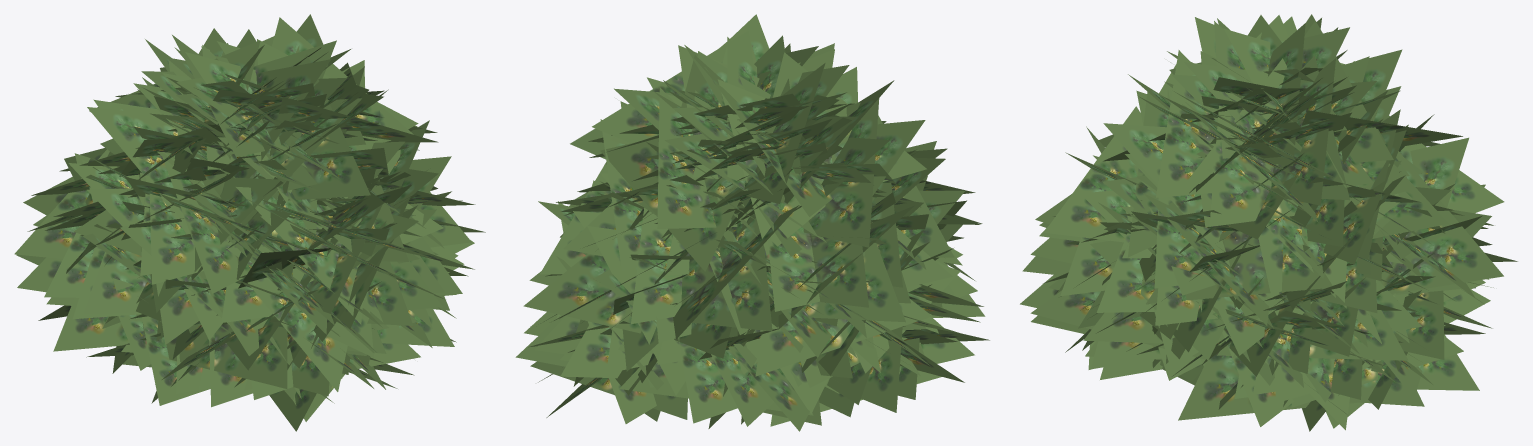
File: Rhamnus_Alaternus_Spring_Young.glb
3 renders of one model, left to right at view 1: azimuth 30°, elevation 25°; view 2: azimuth 150°, elevation 25°; view 3: azimuth 270°, elevation 25°, orthographic. The views are drawn at different scales.
Visible parts, largest first — view 1: Rhamnus_Alaternus_Spring_Young__LOD3; view 2: Rhamnus_Alaternus_Spring_Young__LOD3; view 3: Rhamnus_Alaternus_Spring_Young__LOD3.
Boxes of the visible parts, left/top/right/bottom form: Rhamnus_Alaternus_Spring_Young__LOD3: left=14, top=14, right=485, bottom=431; Rhamnus_Alaternus_Spring_Young__LOD3: left=515, top=14, right=989, bottom=431; Rhamnus_Alaternus_Spring_Young__LOD3: left=1020, top=14, right=1517, bottom=431.
Bounding box in the file's own units: 3.02 × 2.15 × 3.22.
2 materials, 2 textured.
